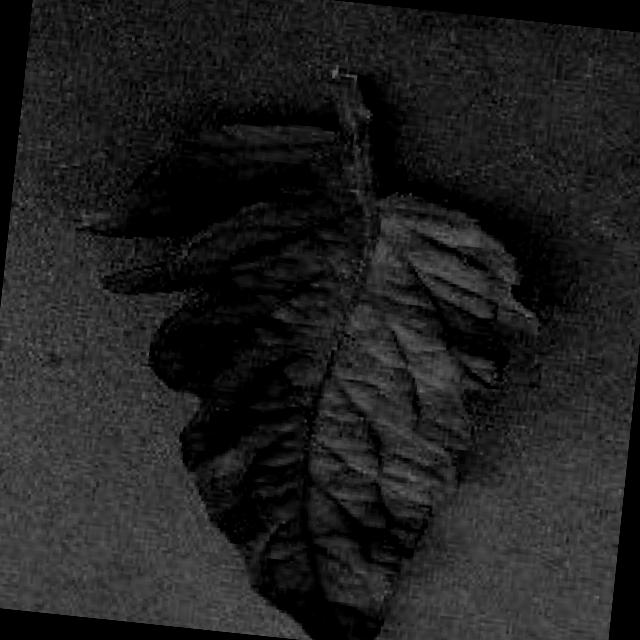leaf mold: (78, 73, 549, 640)
